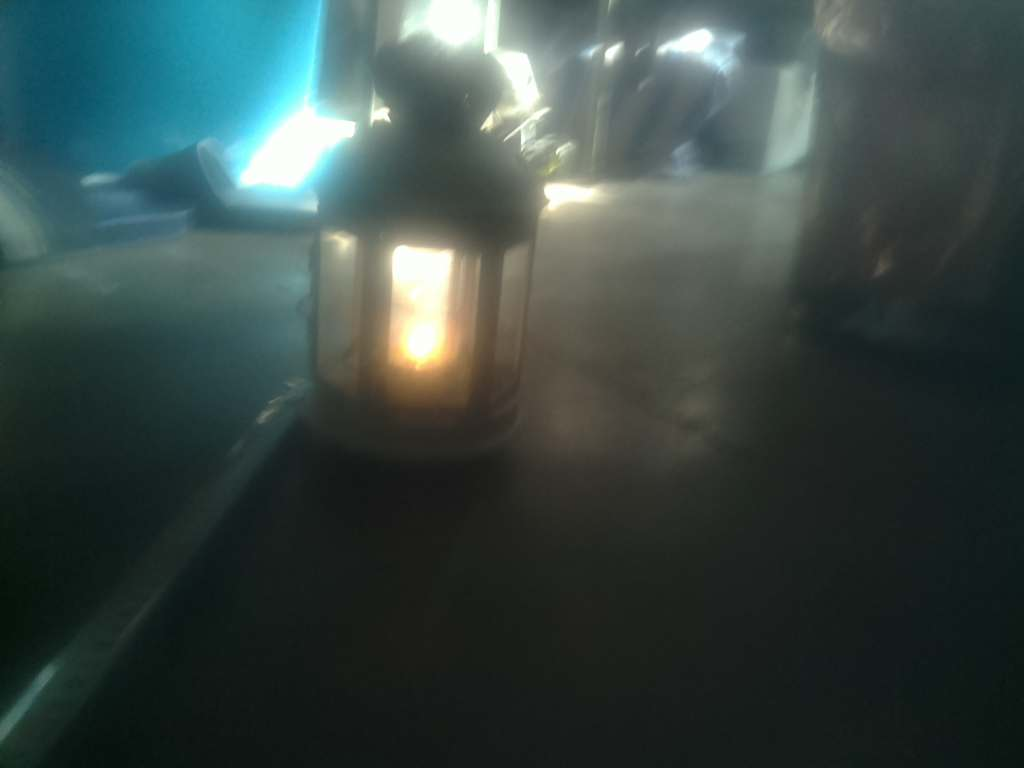fire: (376, 285, 475, 397)
